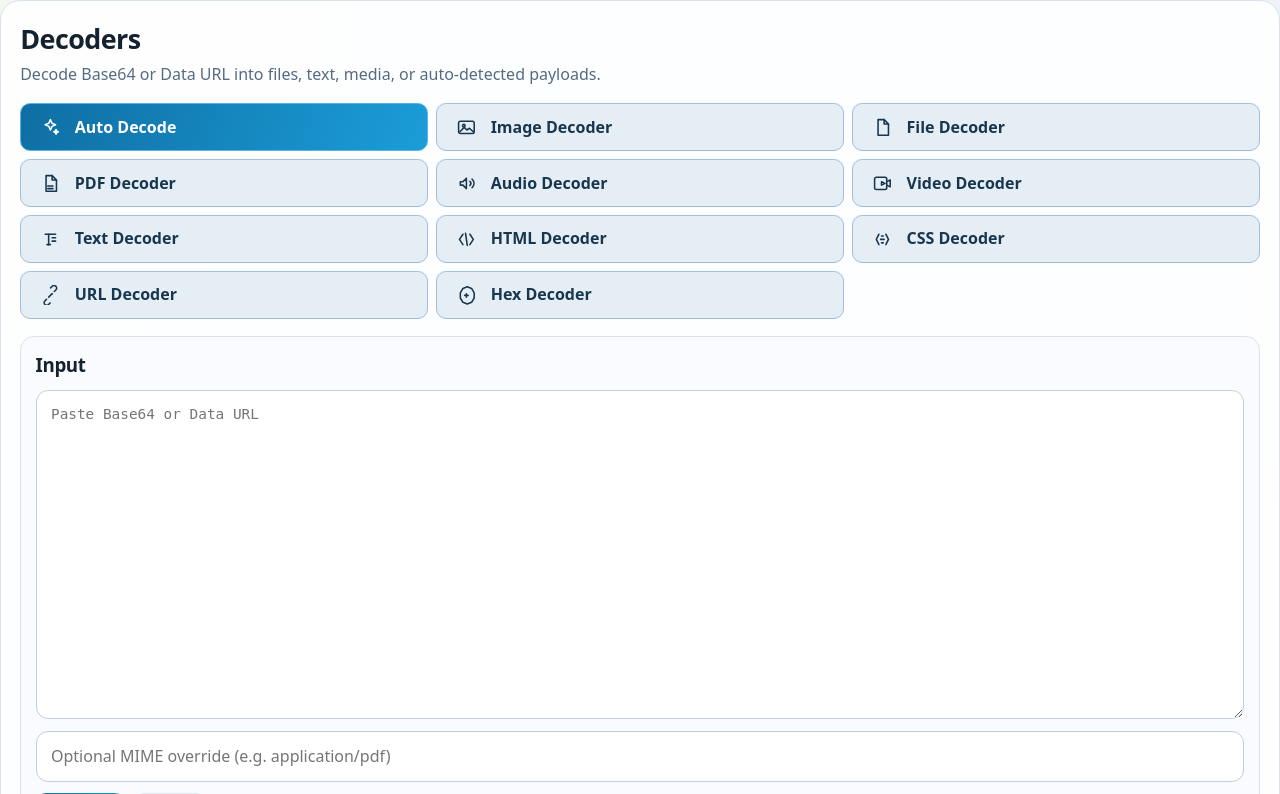
DecodersPage › shows a calm inline invalid-state message for bad base64 input
Type "%%%" into the text box with placeholder "Paste Base64 or Data URL" at {"x": 640, "y": 555}, box [36, 390, 1244, 720]
(page scrolled)
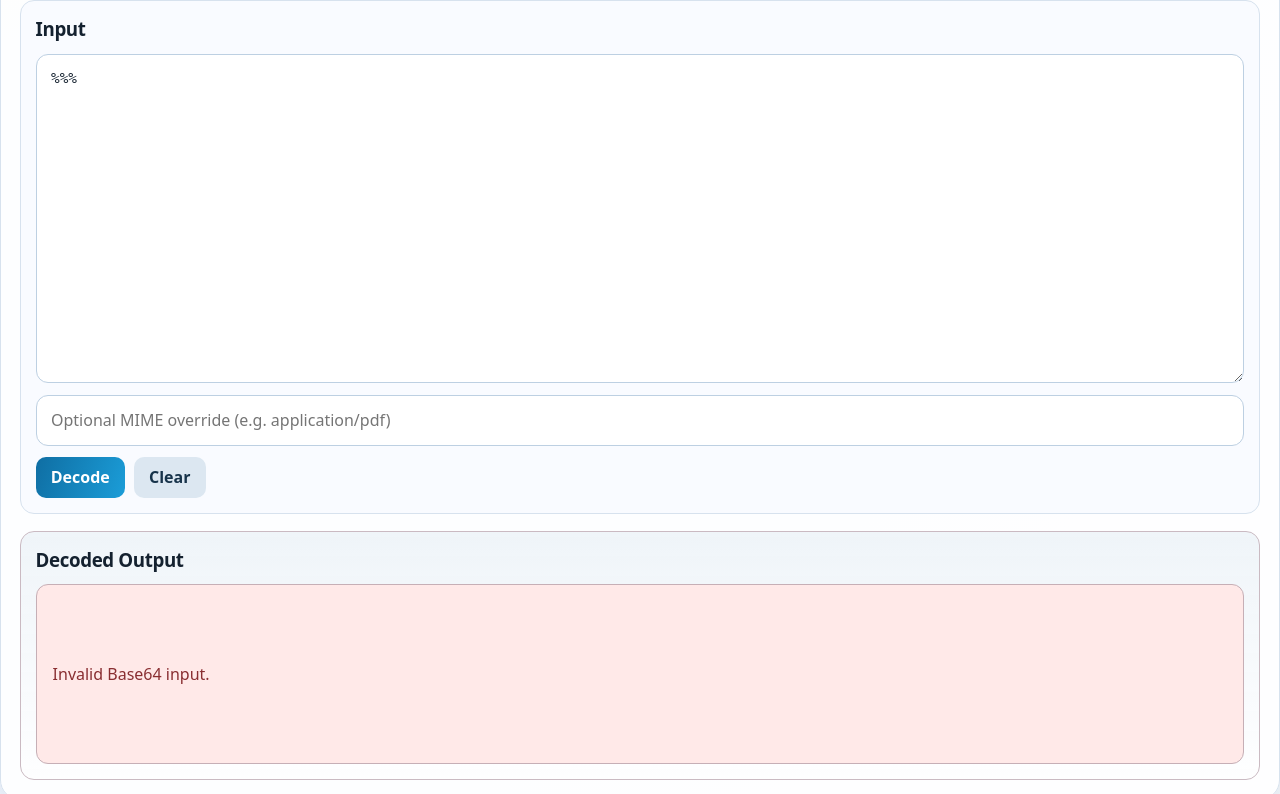
Check: the text "Invalid Base64 input." is shown, box [36, 584, 1244, 764]
